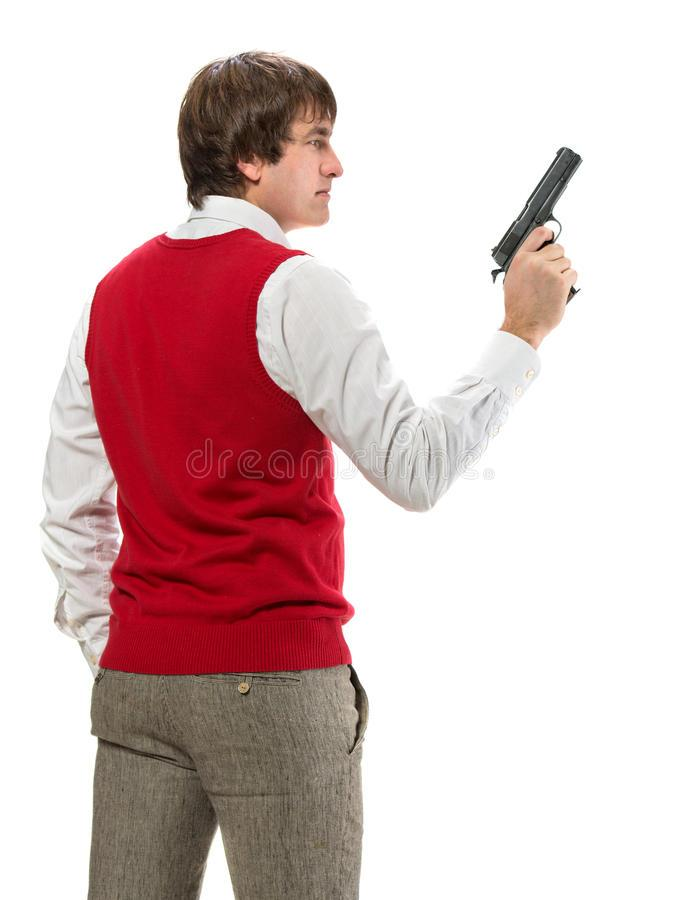criminal: (34, 46, 584, 900)
weapon: (485, 142, 582, 309)
